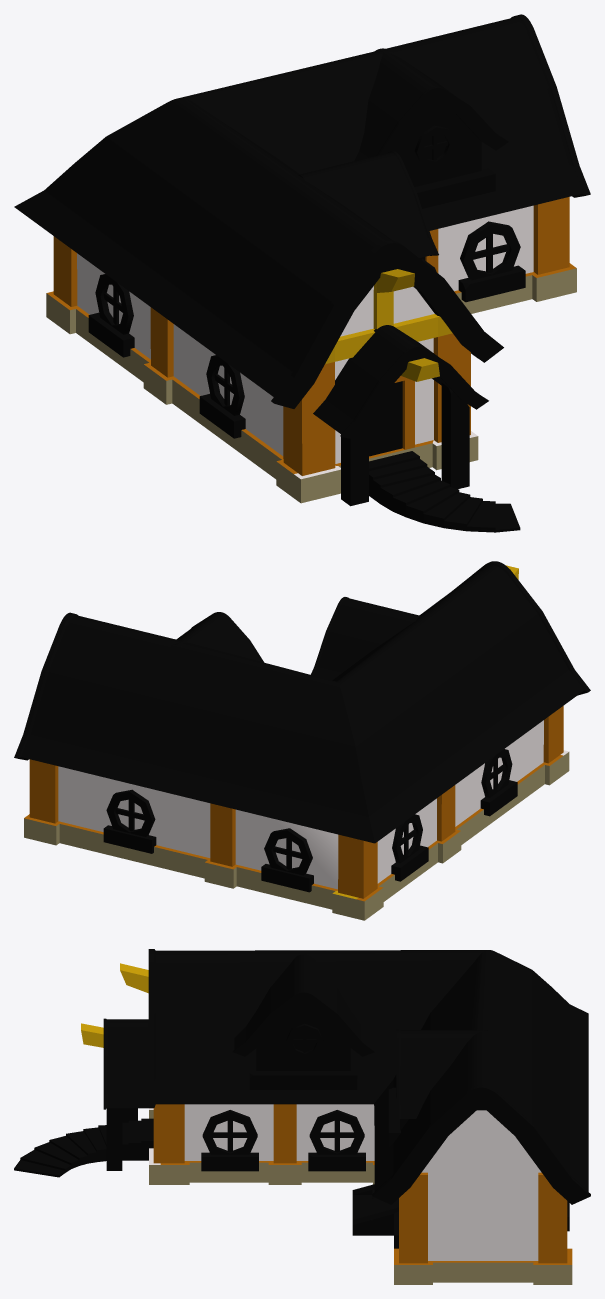
File: house_05.fbx
The picture shows the model from 3 angles, top to bottom: view 1: azimuth 30°, elevation 25°; view 2: azimuth 150°, elevation 25°; view 3: azimuth 270°, elevation 25°; orthographic projection. The views are drawn at different scales.
Visible parts, largest first — view 1: house_05; view 2: house_05; view 3: house_05.
Part boxes in pixels (x1=…): house_05: x1=14, y1=14, x2=590, y2=532; house_05: x1=14, y1=561, x2=590, y2=920; house_05: x1=14, y1=949, x2=590, y2=1284.
Bounding box in the file's own units: 514 × 261 × 684.
